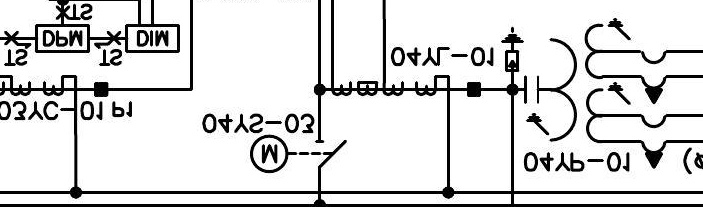115_1way_ds_w_motor: (249, 134, 348, 174)
115_cvt_1p: (523, 17, 669, 169)
115_la: (500, 26, 525, 72)
DIM: (125, 24, 181, 54)
DPM: (34, 24, 91, 54)
